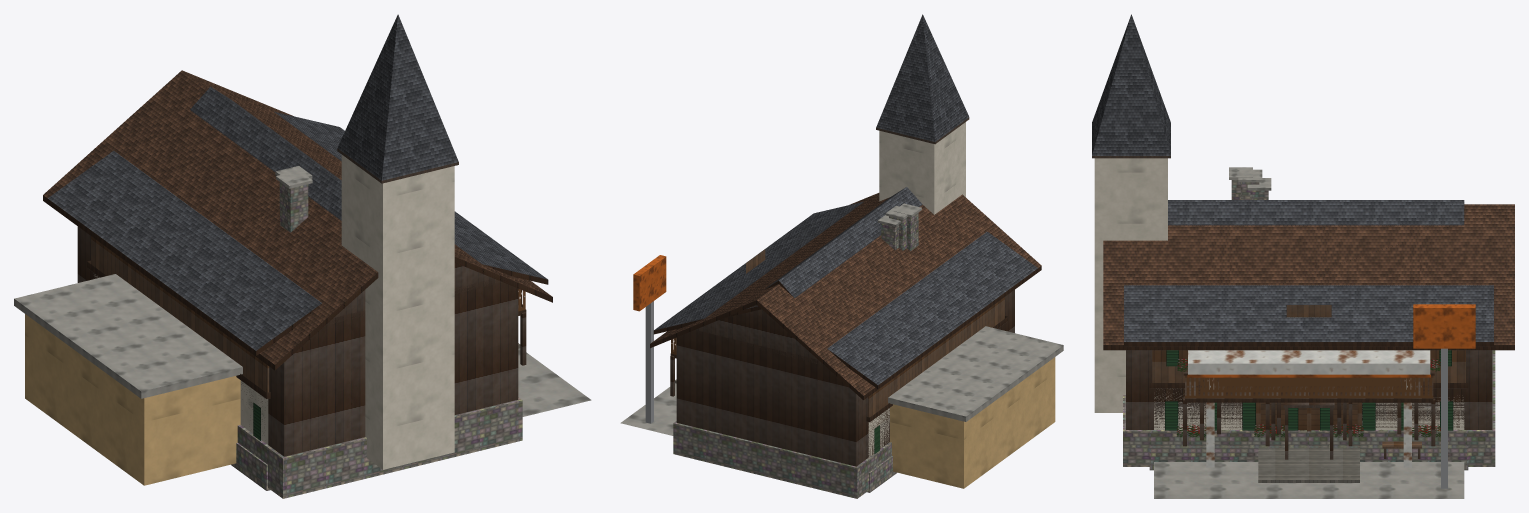
File: buildings.glb
3 views of the same model, side by side, from view 1: azimuth 30°, elevation 25°; view 2: azimuth 150°, elevation 25°; view 3: azimuth 270°, elevation 25° (orthographic). The views are drawn at different scales.
Visible parts, largest first — view 1: barn0, chapel0, gasstation0, chalet2; view 2: barn0, gasstation0, chalet2, chapel0, chalet1; view 3: barn0, chalet2, chapel0, gasstation0, chalet0, chalet1.
Boxes of the visible parts, x1,y1,x2,y2 form: barn0: [43, 70, 552, 498]; chapel0: [190, 14, 458, 469]; gasstation0: [14, 274, 591, 485]; chalet2: [47, 111, 548, 490]; barn0: [650, 193, 1041, 498]; gasstation0: [620, 255, 1063, 488]; chalet2: [653, 201, 1038, 492]; chapel0: [763, 14, 969, 298]; chalet1: [878, 215, 900, 249]; barn0: [1103, 204, 1514, 482]; chalet2: [1124, 167, 1493, 470]; chapel0: [1092, 14, 1464, 412]; gasstation0: [1154, 304, 1475, 498]; chalet0: [1200, 169, 1418, 440]; chalet1: [1217, 178, 1401, 434].
Size of the model in its own units: 15.5 by 15.8 by 15.
Materials: 24 (21 with a texture image).
